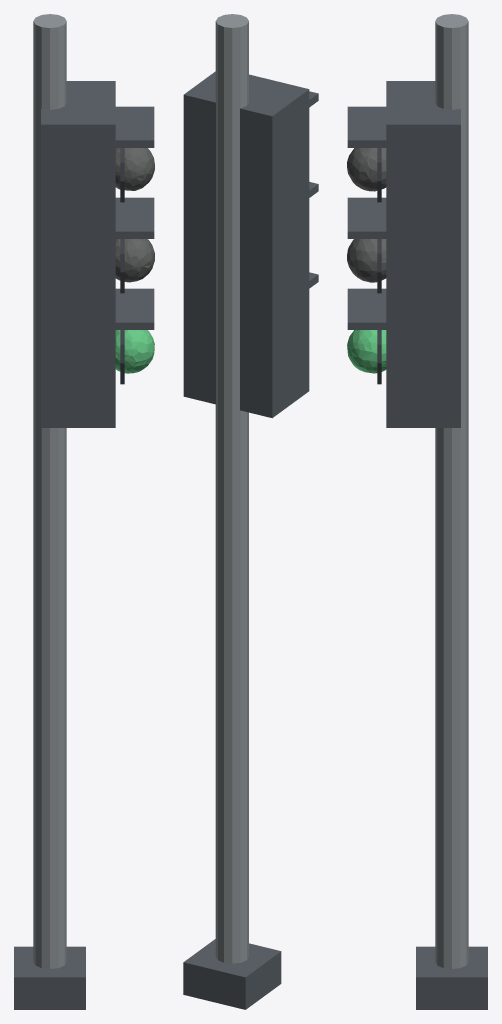
Rendered from batch-a-uk-vehicle-signal-green.glb.
The picture shows the model from 3 angles, left to right: view 1: azimuth 90°, elevation 25°; view 2: azimuth 150°, elevation 25°; view 3: azimuth 270°, elevation 25°; orthographic projection.
Visible parts, largest first — view 1: part_0; view 2: part_0; view 3: part_0.
Part boxes in pixels (bbox=[...]): part_0: bbox=[14, 14, 154, 1009]; part_0: bbox=[183, 14, 318, 1009]; part_0: bbox=[347, 14, 487, 1009].
Size of the model in its own units: 0.4001 by 4.18 by 0.547.
